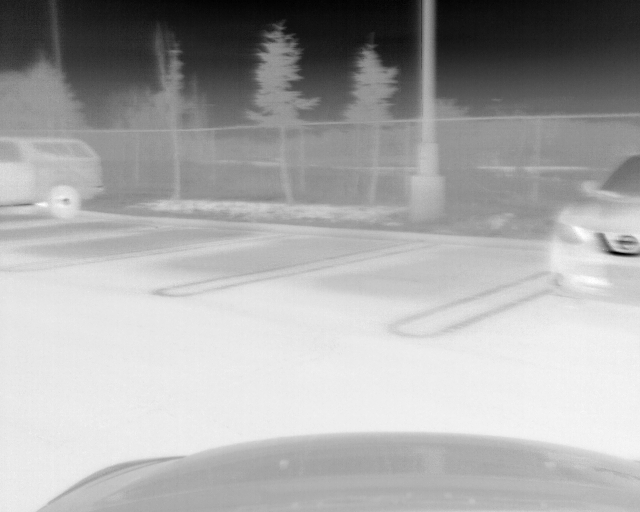car: (543, 153, 640, 305), (2, 135, 106, 221)
